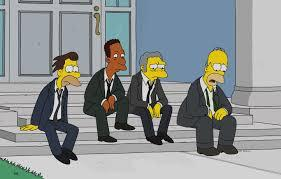Homer: (186, 42, 244, 159)
